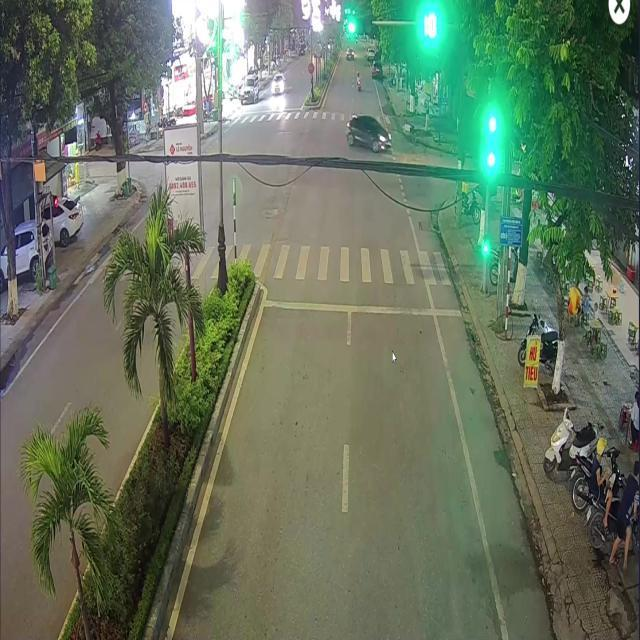car: (346, 114, 390, 151)
green_light: (484, 106, 500, 177), (345, 12, 374, 40)
stop_line: (263, 298, 460, 316)
